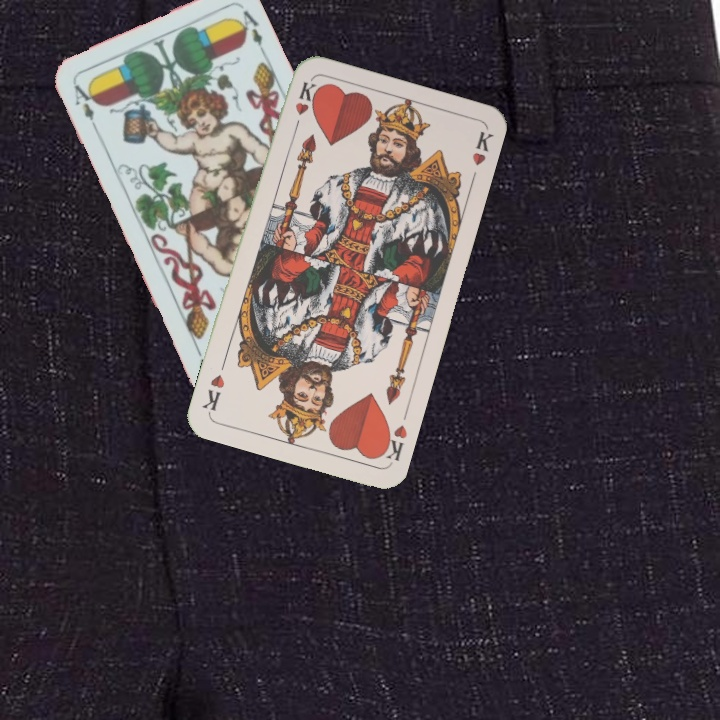EA: (70, 80, 102, 136)
HK: (289, 77, 318, 136), (375, 421, 410, 466)
